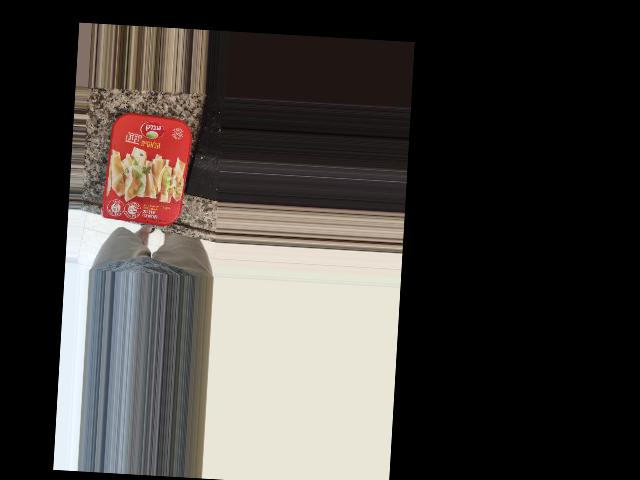cheese: (98, 114, 191, 228)
